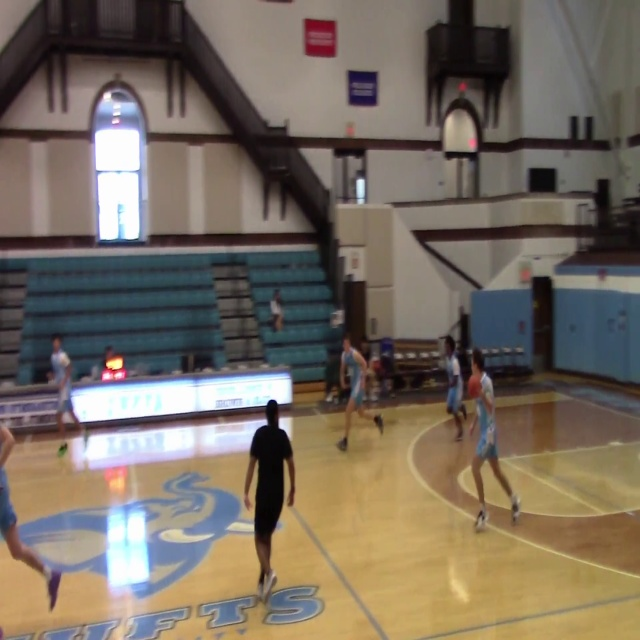Basketball: (467, 375, 482, 399), (57, 443, 68, 457)
